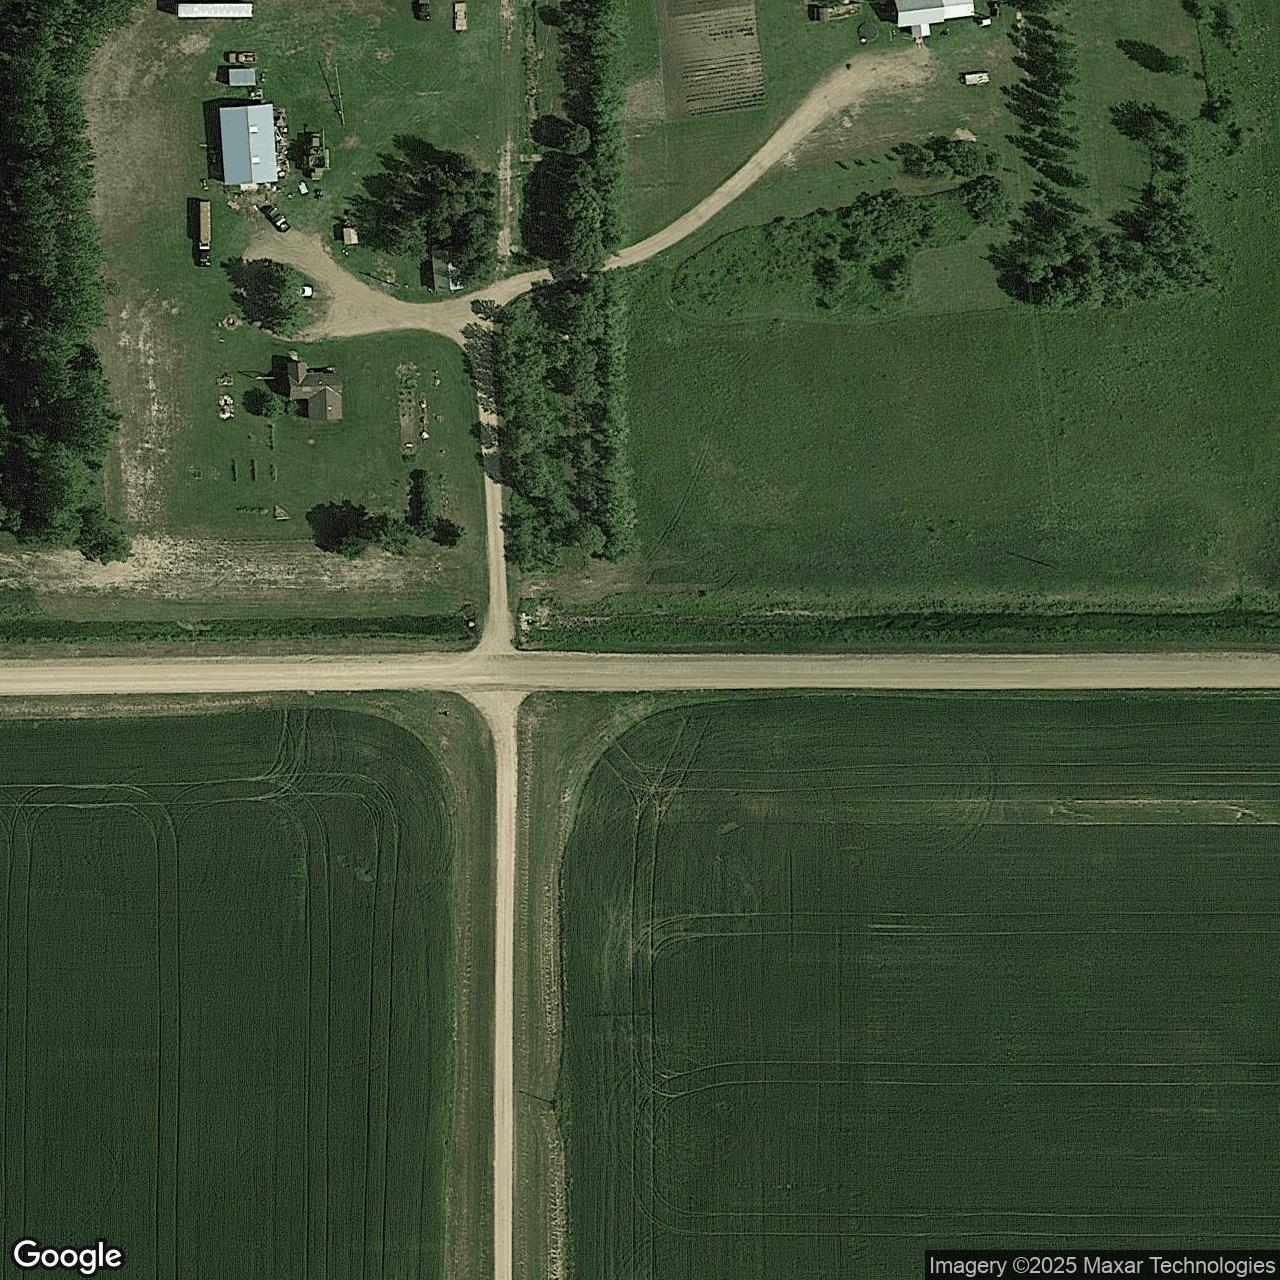Garage: (218, 104, 279, 184)
House: (286, 362, 342, 420)
